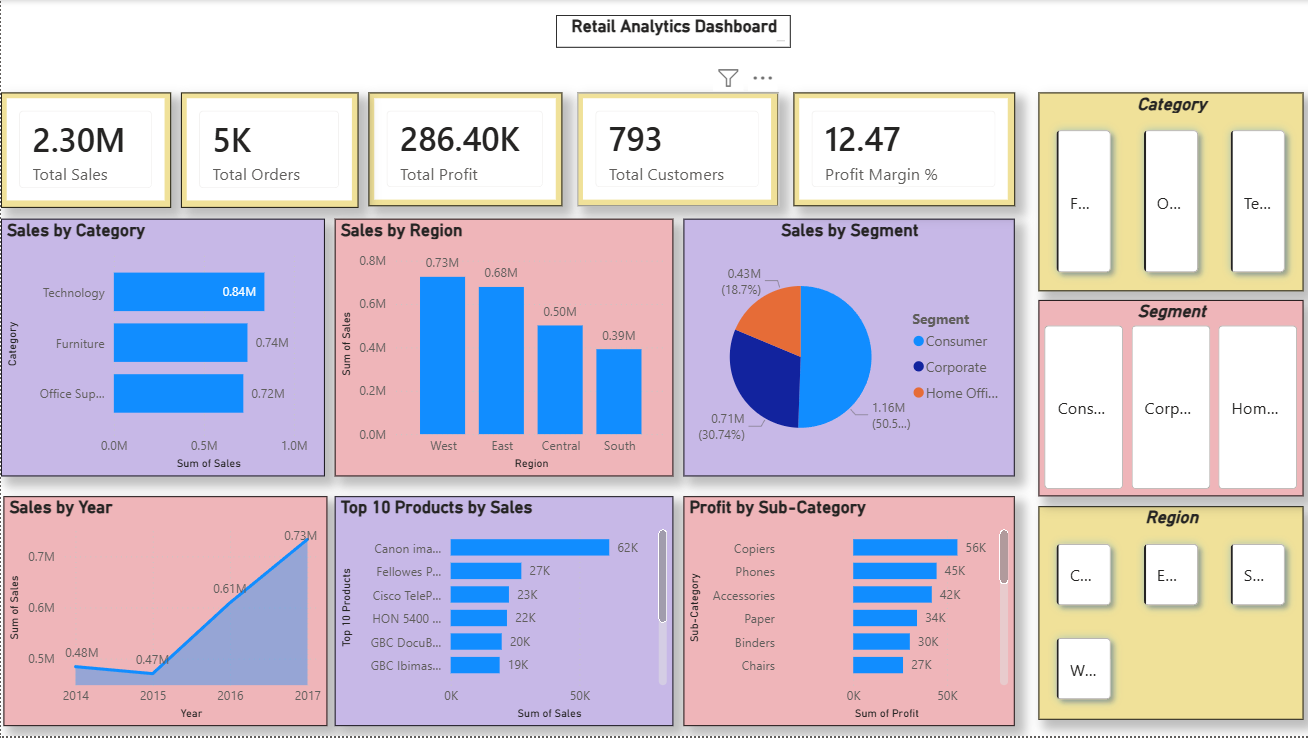

What the dashboard file says about the page in this screenshot:
{"tool":"powerbi","page":{"name":"Page 1","canvas":[1280,720],"ordinal":0},"visuals":[{"type":"cardVisual","fields":{"Data":["clean_superstore_mysql.Total Sales"]},"box":[0,90.5,166.3,112.5],"z":0},{"type":"cardVisual","fields":{"Data":["clean_superstore_mysql.Total Profit"]},"box":[359.5,90.5,189.5,111.3],"z":1000},{"type":"cardVisual","fields":{"Data":["clean_superstore_mysql.Total Orders"]},"box":[176.1,90.5,173.6,112.5],"z":2000},{"type":"cardVisual","fields":{"Data":["clean_superstore_mysql.Total Customers"]},"box":[563.7,90.5,196.9,111.3],"z":3000},{"type":"clusteredBarChart","title":" Sales by Category","fields":{"Y":["Sum(clean_superstore_mysql.Sales)"],"Category":["clean_superstore_mysql.Category"]},"box":[0,214,316.7,251.9],"z":4000},{"type":"clusteredColumnChart","title":"Sales by Region","fields":{"Category":["clean_superstore_mysql.Region"],"Y":["Sum(clean_superstore_mysql.Sales)"]},"box":[326.5,214,331.4,251.9],"z":5000},{"type":"lineChart","title":" Sales by Year","fields":{"Category":["clean_superstore_mysql.Order Date.Variation.Date Hierarchy.Year","clean_superstore_mysql.Order Date.Variation.Date Hierarchy.Quarter","clean_superstore_mysql.Order Date.Variation.Date Hierarchy.Month","clean_superstore_mysql.Order Date.Variation.Date Hierarchy.Day"],"Y":["Sum(clean_superstore_mysql.Sales)"]},"box":[2.4,485.5,316.7,225],"z":6000},{"type":"clusteredBarChart","title":"Top 10 Products by Sales","fields":{"Category":["clean_superstore_mysql.Product Name"],"Y":["Sum(clean_superstore_mysql.Sales)"]},"box":[326.5,485.5,331.4,225],"z":7000},{"type":"pieChart","title":" Sales by Segment","fields":{"Category":["clean_superstore_mysql.Segment"],"Y":["Sum(clean_superstore_mysql.Sales)"]},"box":[667.7,214,324.1,251.9],"z":8000},{"type":"advancedSlicerVisual","fields":{"Values":["clean_superstore_mysql.Region"]},"box":[1015,495.2,259.2,209.1],"z":9000},{"type":"advancedSlicerVisual","fields":{"Values":["clean_superstore_mysql.Category"]},"box":[1015,90.5,259.2,194.4],"z":10000},{"type":"advancedSlicerVisual","fields":{"Values":["clean_superstore_mysql.Segment"]},"box":[1015,293.5,259.2,192],"z":11000},{"type":"textbox","title":"Retail Analytics Dashboard","box":[542.9,14.7,229.9,37.9],"z":12000},{"type":"clusteredBarChart","title":" Profit by Sub-Category","fields":{"Category":["clean_superstore_mysql.Sub-Category"],"Y":["Sum(clean_superstore_mysql.Profit)"]},"box":[668,485,324,225],"z":13000},{"type":"cardVisual","fields":{"Data":["clean_superstore_mysql.Profit Margin %"]},"box":[775.3,90.5,216.4,111.3],"z":14000}]}

Visuals, with their boxes in screenshot pixels (x1, y1, x2, y2), scaled from the page's 1280x720 canvas onto the 1308x738 screenshot:
cardVisual - clean_superstore_mysql.Total Sales: <bbox>0, 93, 170, 208</bbox>
cardVisual - clean_superstore_mysql.Total Profit: <bbox>367, 93, 561, 207</bbox>
cardVisual - clean_superstore_mysql.Total Orders: <bbox>180, 93, 357, 208</bbox>
cardVisual - clean_superstore_mysql.Total Customers: <bbox>576, 93, 777, 207</bbox>
" Sales by Category" clusteredBarChart: <bbox>0, 219, 324, 478</bbox>
"Sales by Region" clusteredColumnChart: <bbox>334, 219, 672, 478</bbox>
" Sales by Year" lineChart: <bbox>2, 498, 326, 728</bbox>
"Top 10 Products by Sales" clusteredBarChart: <bbox>334, 498, 672, 728</bbox>
" Sales by Segment" pieChart: <bbox>682, 219, 1013, 478</bbox>
advancedSlicerVisual - clean_superstore_mysql.Region: <bbox>1037, 508, 1302, 722</bbox>
advancedSlicerVisual - clean_superstore_mysql.Category: <bbox>1037, 93, 1302, 292</bbox>
advancedSlicerVisual - clean_superstore_mysql.Segment: <bbox>1037, 301, 1302, 498</bbox>
"Retail Analytics Dashboard" textbox: <bbox>555, 15, 790, 54</bbox>
" Profit by Sub-Category" clusteredBarChart: <bbox>683, 497, 1014, 728</bbox>
cardVisual - clean_superstore_mysql.Profit Margin %: <bbox>792, 93, 1013, 207</bbox>
